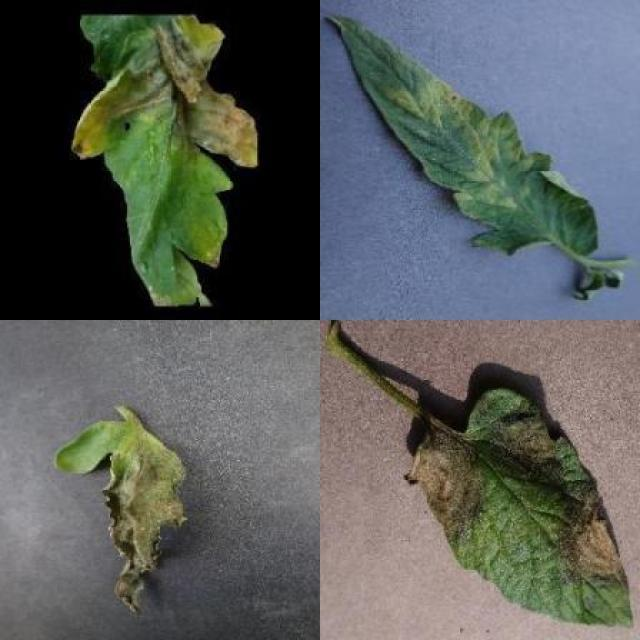Late Blight: (70, 14, 260, 307), (410, 388, 637, 631), (56, 420, 190, 620)
Leaf Mold: (326, 13, 600, 257)
